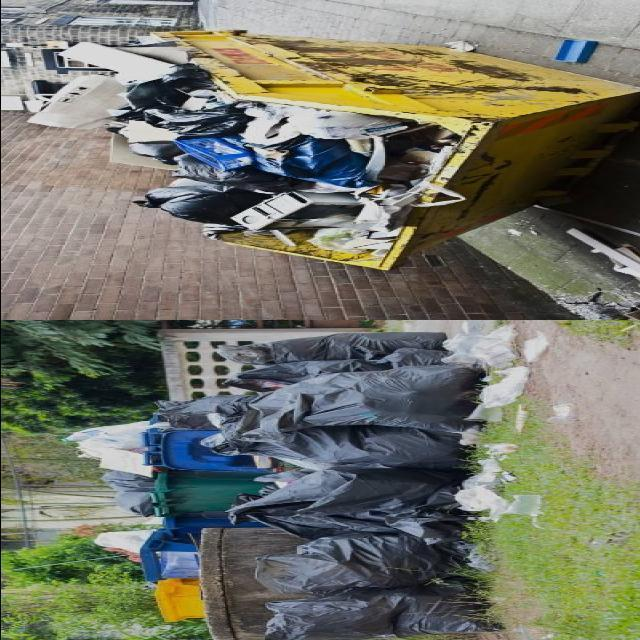E_waste: (228, 192, 361, 230)
Garbage: (158, 332, 499, 640), (33, 39, 463, 262), (105, 470, 140, 501)
Plastic: (175, 138, 254, 170)
Plastic_Bag: (228, 466, 464, 544), (249, 365, 479, 432), (254, 532, 457, 596), (267, 585, 499, 640), (197, 425, 464, 470), (223, 349, 451, 392), (214, 332, 444, 365), (254, 138, 381, 188), (131, 186, 269, 225), (175, 155, 311, 194), (284, 106, 407, 140), (153, 394, 265, 429), (144, 105, 254, 138), (122, 80, 188, 111), (162, 64, 214, 94), (127, 141, 184, 165)
